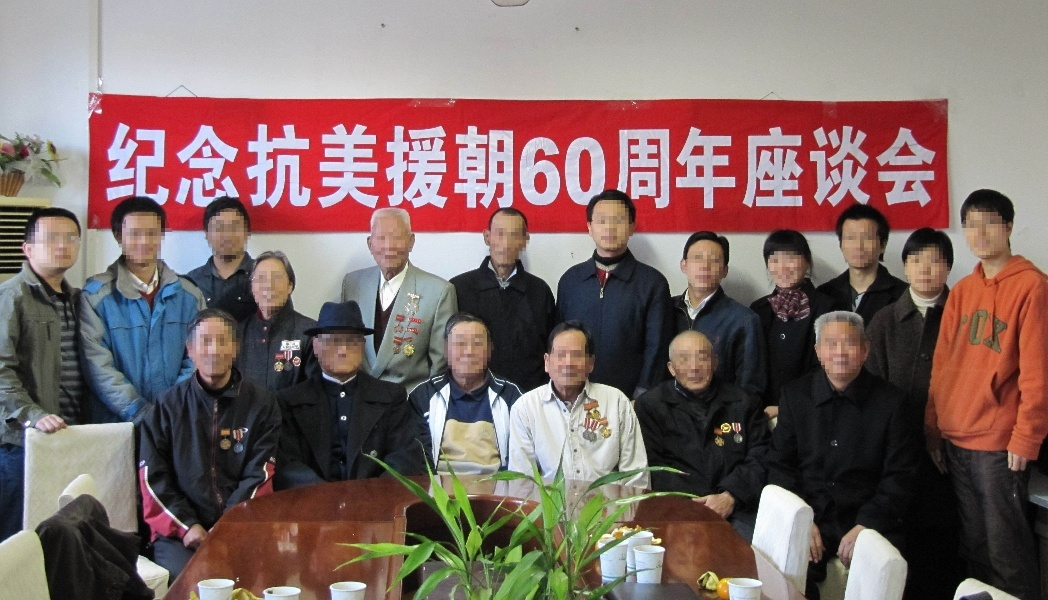text: (97, 123, 112, 212), (113, 123, 128, 212), (129, 123, 144, 212), (145, 123, 160, 212), (161, 123, 176, 212), (177, 123, 192, 212), (193, 123, 208, 212), (209, 123, 224, 212), (225, 123, 240, 212), (241, 123, 256, 212), (257, 123, 272, 212), (273, 123, 288, 212), (289, 123, 304, 212), (305, 123, 320, 212), (321, 123, 336, 212), (337, 123, 352, 212), (353, 123, 368, 212), (369, 123, 384, 212), (385, 123, 400, 212), (401, 123, 416, 212), (417, 123, 432, 212), (433, 123, 448, 212), (449, 123, 464, 212), (465, 123, 480, 212), (481, 123, 496, 212), (497, 123, 512, 212), (513, 123, 528, 212), (529, 123, 544, 212), (545, 123, 560, 212), (561, 123, 576, 212), (577, 123, 592, 212), (593, 123, 608, 212), (609, 123, 624, 212), (625, 123, 640, 212), (641, 123, 656, 212), (657, 123, 672, 212), (673, 123, 688, 212), (689, 123, 704, 212), (705, 123, 720, 212), (721, 123, 736, 212), (737, 123, 752, 212), (753, 123, 768, 212), (769, 123, 784, 212), (785, 123, 800, 212), (801, 123, 816, 212), (817, 123, 832, 212), (833, 123, 848, 212), (849, 123, 864, 212), (865, 123, 880, 212), (881, 123, 896, 212), (897, 123, 912, 212), (913, 123, 928, 212), (929, 123, 942, 212), (977, 304, 992, 355), (993, 304, 1008, 355), (965, 304, 976, 355), (1009, 304, 1013, 355), (94, 123, 96, 212)
